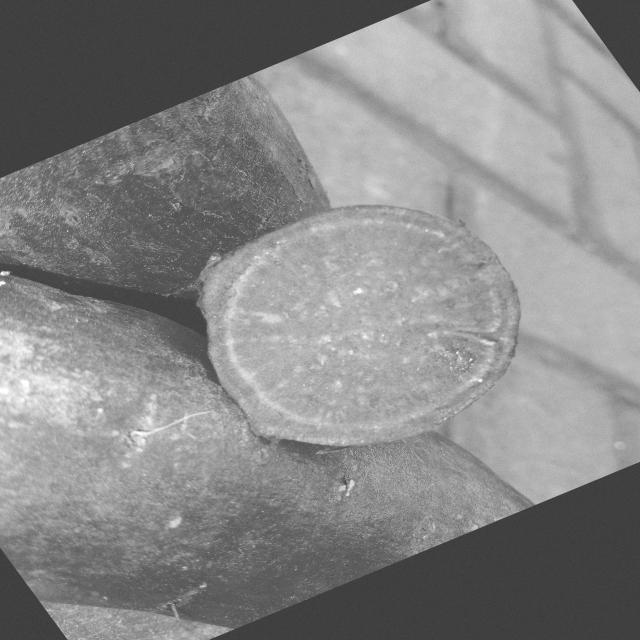Healthy Sweet Potato: (200, 205, 520, 445)
